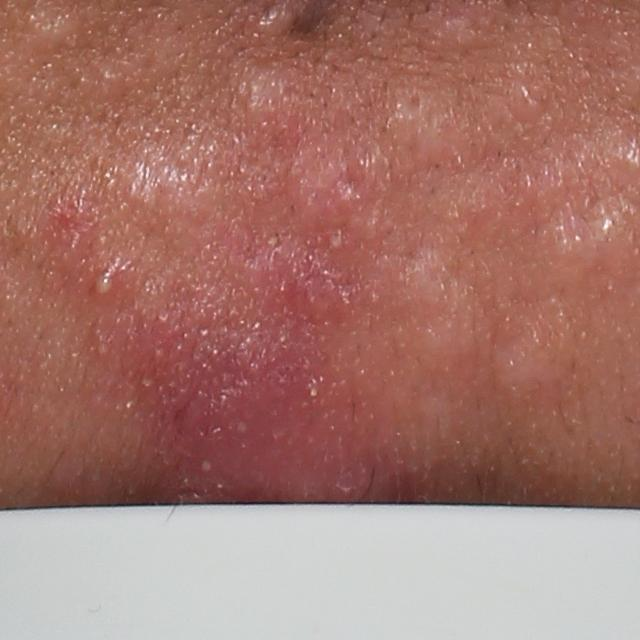hypertrophic_scar: (95, 139, 232, 256), (388, 243, 490, 384), (382, 96, 473, 188), (480, 331, 582, 395), (226, 66, 287, 129)
nodule: (145, 315, 409, 510)
pustule: (87, 264, 121, 300)
